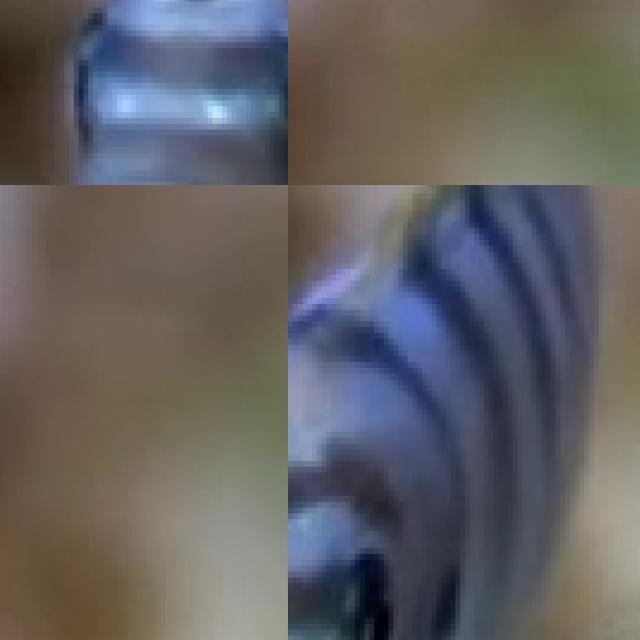fish: (288, 185, 640, 640), (0, 0, 288, 185)
